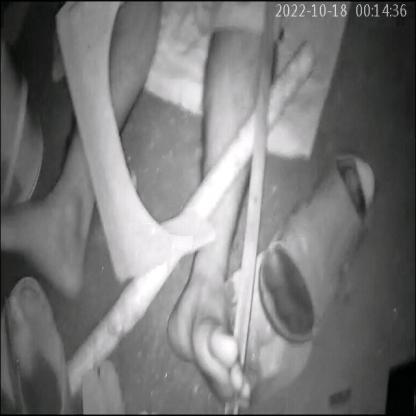leg: (0, 0, 165, 306), (164, 28, 274, 413)
